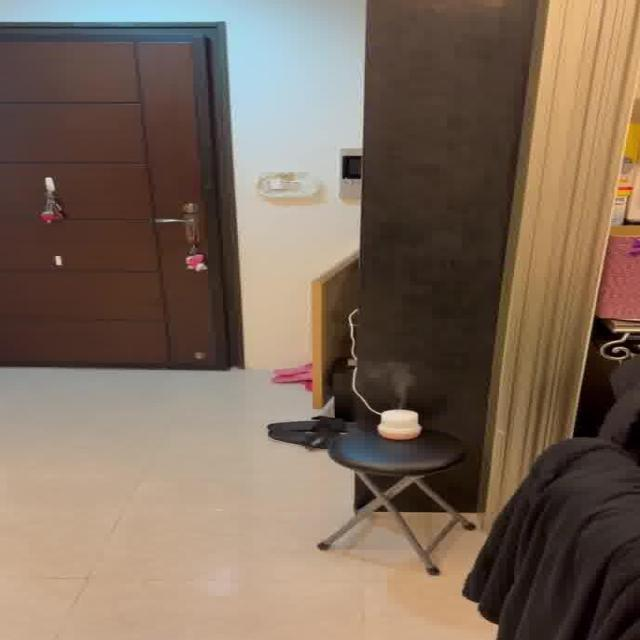fire: (368, 360, 423, 407)
